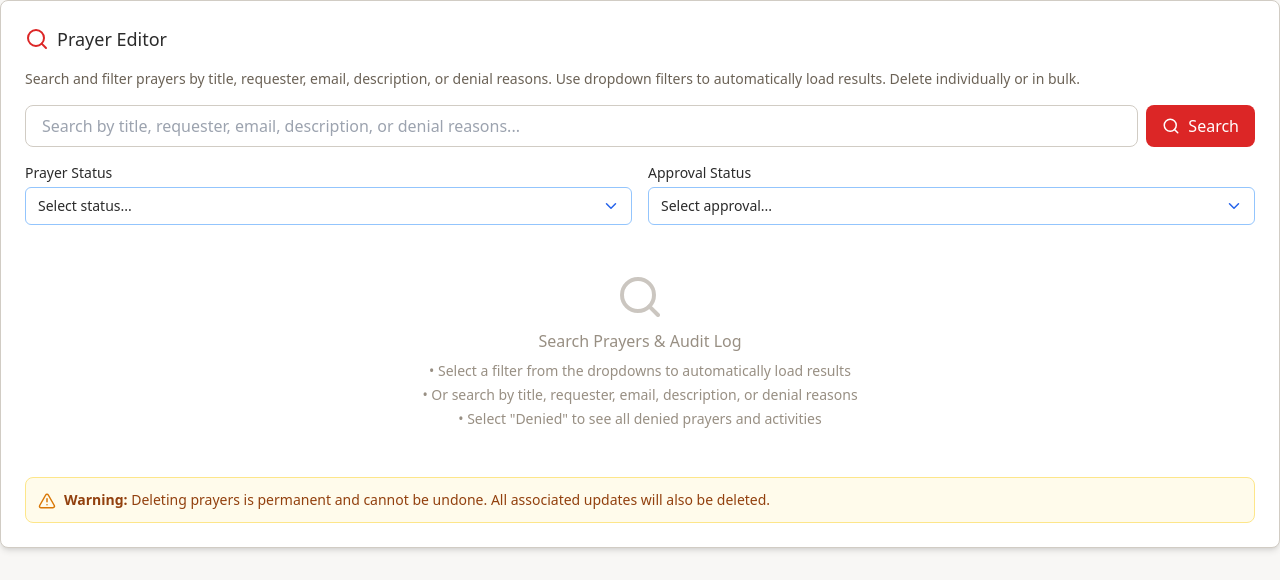
Test case: PrayerSearch Component › Search Functionality › performs search when Enter key is pressed
The width and height of the screenshot is (1280, 580).
Type "John" into the field with placeholder "Search by title, requester, email, description, or denial reasons" at (582, 126), box x1=25 y1=105 x2=1138 y2=147
Then press Enter
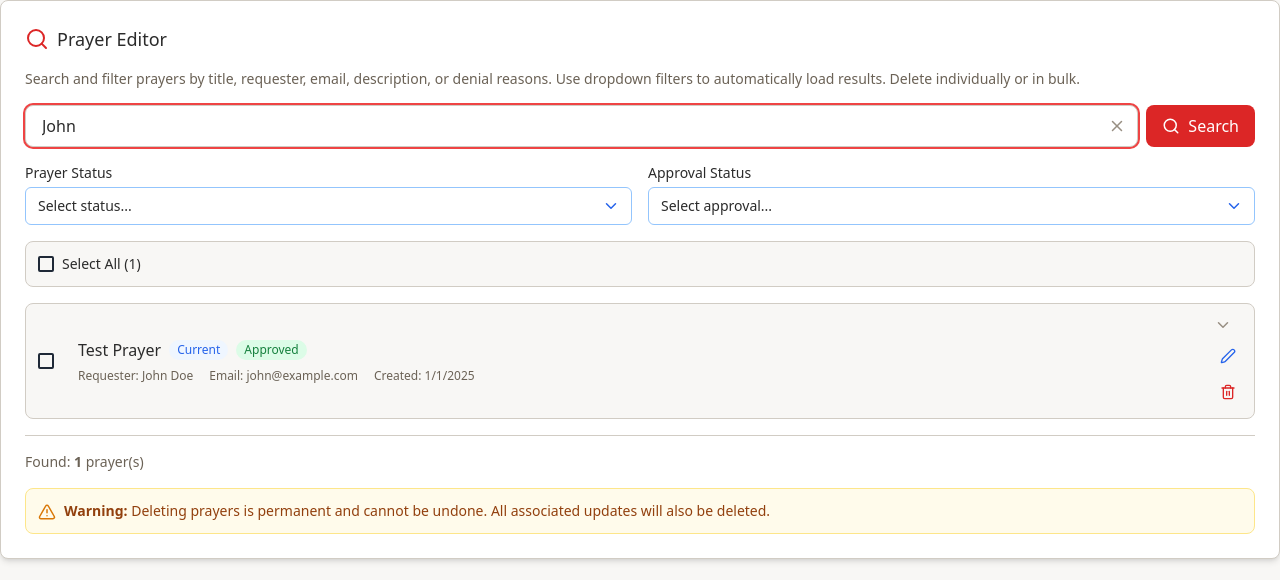
Result: the heading "Test Prayer" is shown at x1=78 y1=338 x2=161 y2=362
